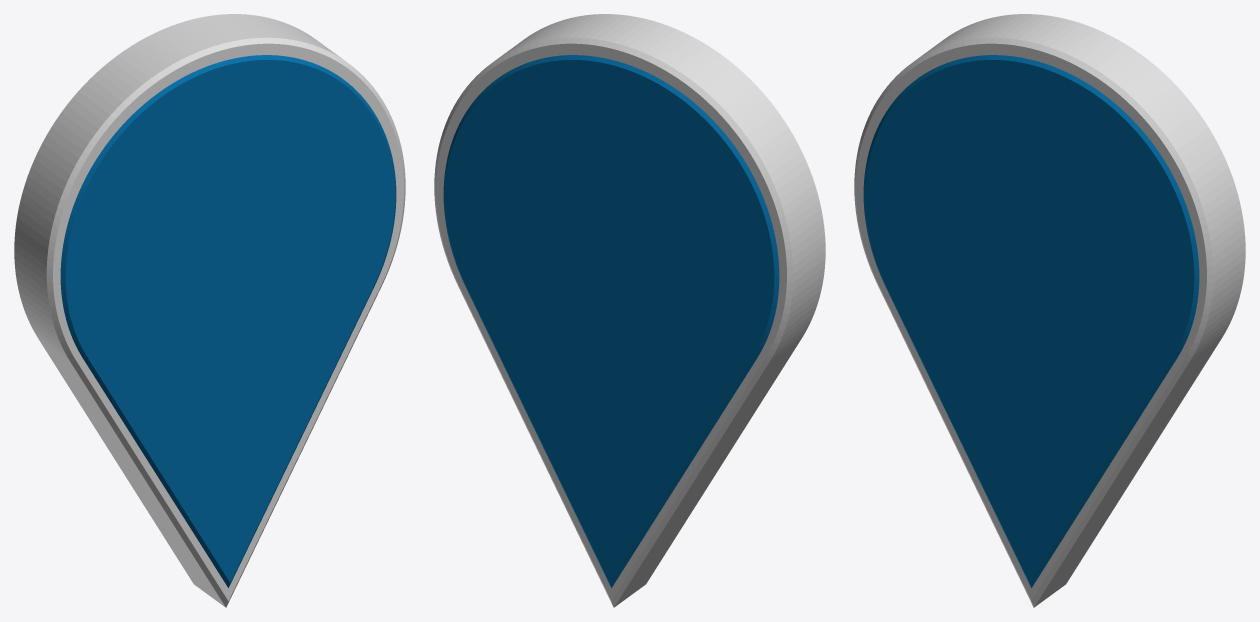
File: plain-blue.glb
The picture shows the model from 3 angles, left to right: view 1: azimuth 30°, elevation 25°; view 2: azimuth 150°, elevation 25°; view 3: azimuth 330°, elevation 25°; orthographic projection.
Visible parts, largest first — view 1: marker-body, rim; view 2: marker-body, rim; view 3: marker-body, rim.
Boxes of the visible parts, x1=… form: marker-body: x1=60, y1=55, x2=396, y2=587; rim: x1=14, y1=14, x2=405, y2=607; marker-body: x1=443, y1=55, x2=779, y2=587; rim: x1=434, y1=14, x2=825, y2=607; marker-body: x1=863, y1=55, x2=1199, y2=587; rim: x1=854, y1=14, x2=1245, y2=607.
Size of the model in its own units: 2.24 by 3.37 by 0.44.
